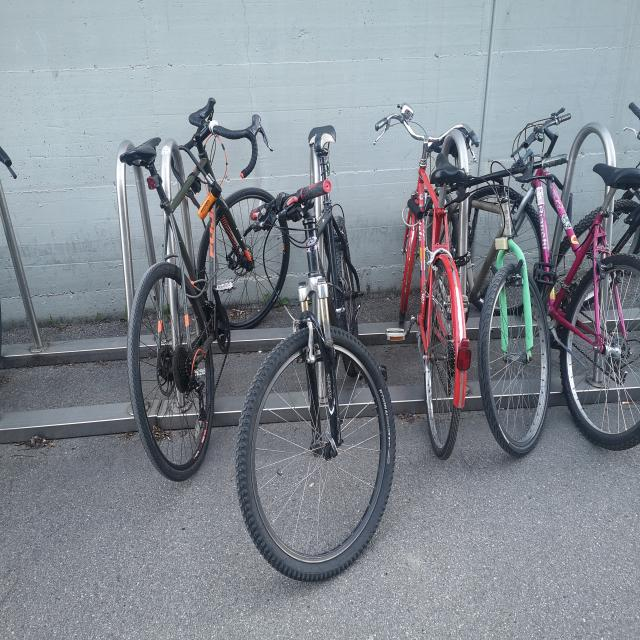Bicycle: (223, 117, 412, 628), (104, 104, 294, 463), (497, 79, 640, 452), (380, 132, 479, 449), (478, 120, 546, 483)
